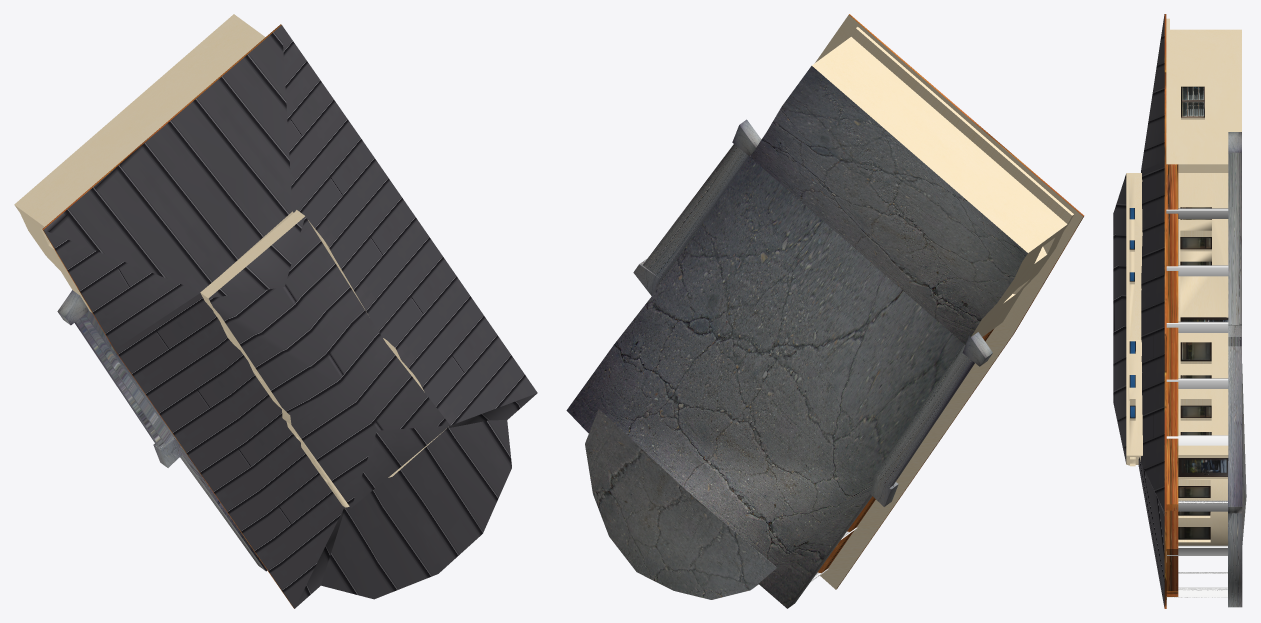
Rendered from Kaarli_pst_2-origo.obj.
3 renders of one model, left to right at view 1: azimuth 30°, elevation 25°; view 2: azimuth 150°, elevation 25°; view 3: azimuth 270°, elevation 25°, orthographic. The views are drawn at different scales.
Parts seen in each view (by area): view 1: Box04; view 2: Box04; view 3: Box04.
Part boxes in pixels (bbox=[...]): Box04: bbox=[14, 14, 537, 608]; Box04: bbox=[566, 14, 1084, 608]; Box04: bbox=[1113, 14, 1246, 608].
Size of the model in its own units: 26.44 by 30.5 by 6.88.
